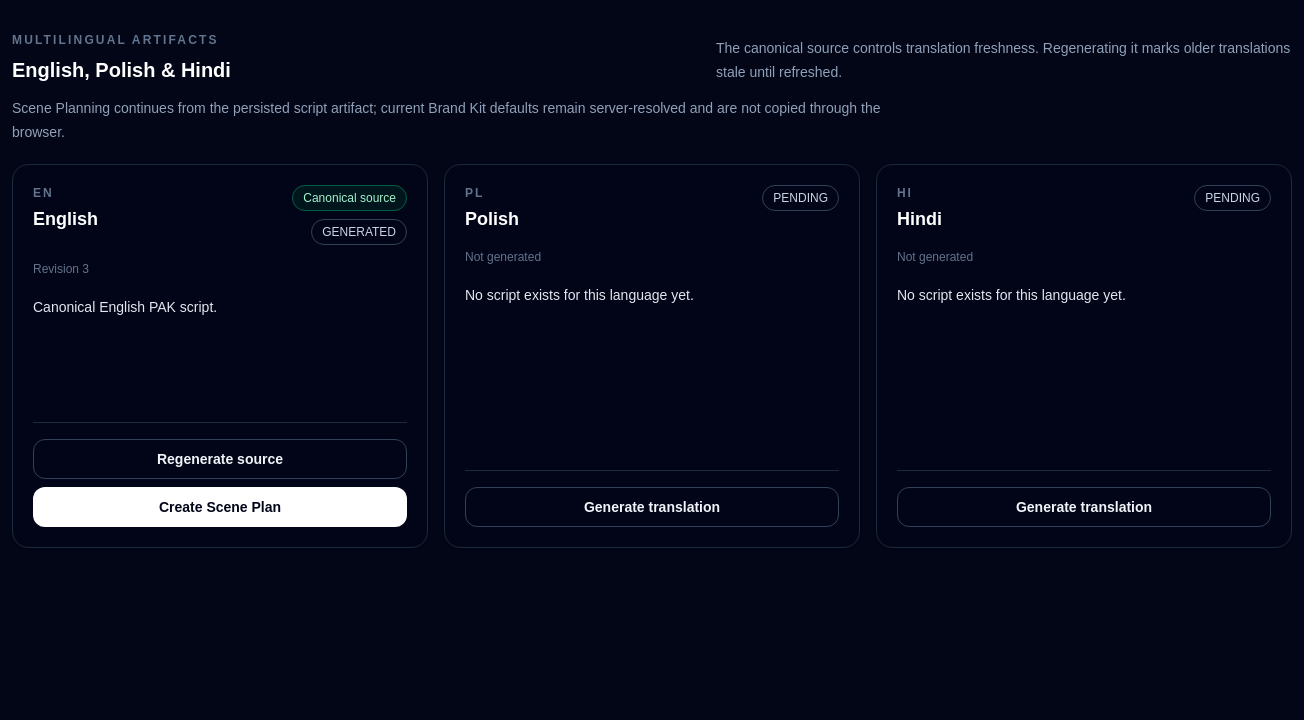
Test: MultilingualContentPanel › displays safe action errors without exposing provider internals
Click the button with aria-label "Regenerate English source" at (220, 459), box [33,439,407,479]
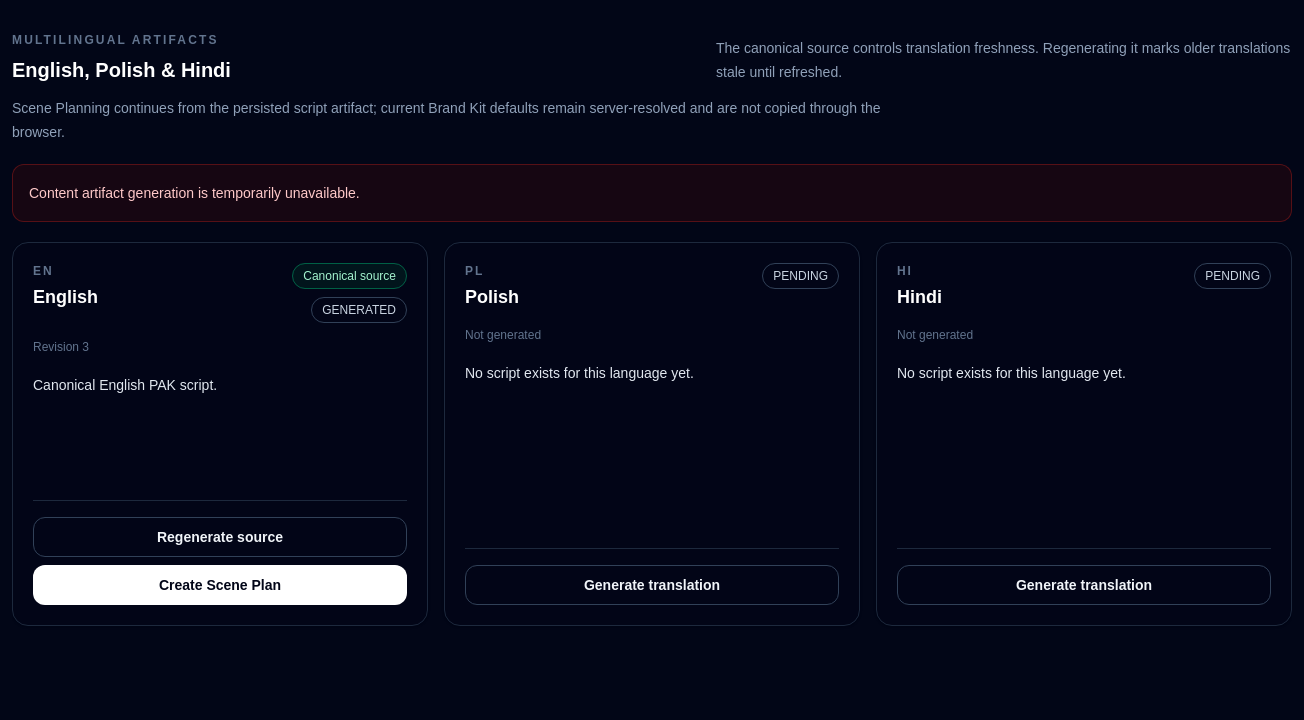
Now the text "Content artifact generation is temporarily unavailable." is shown, box [12,164,1292,222]
